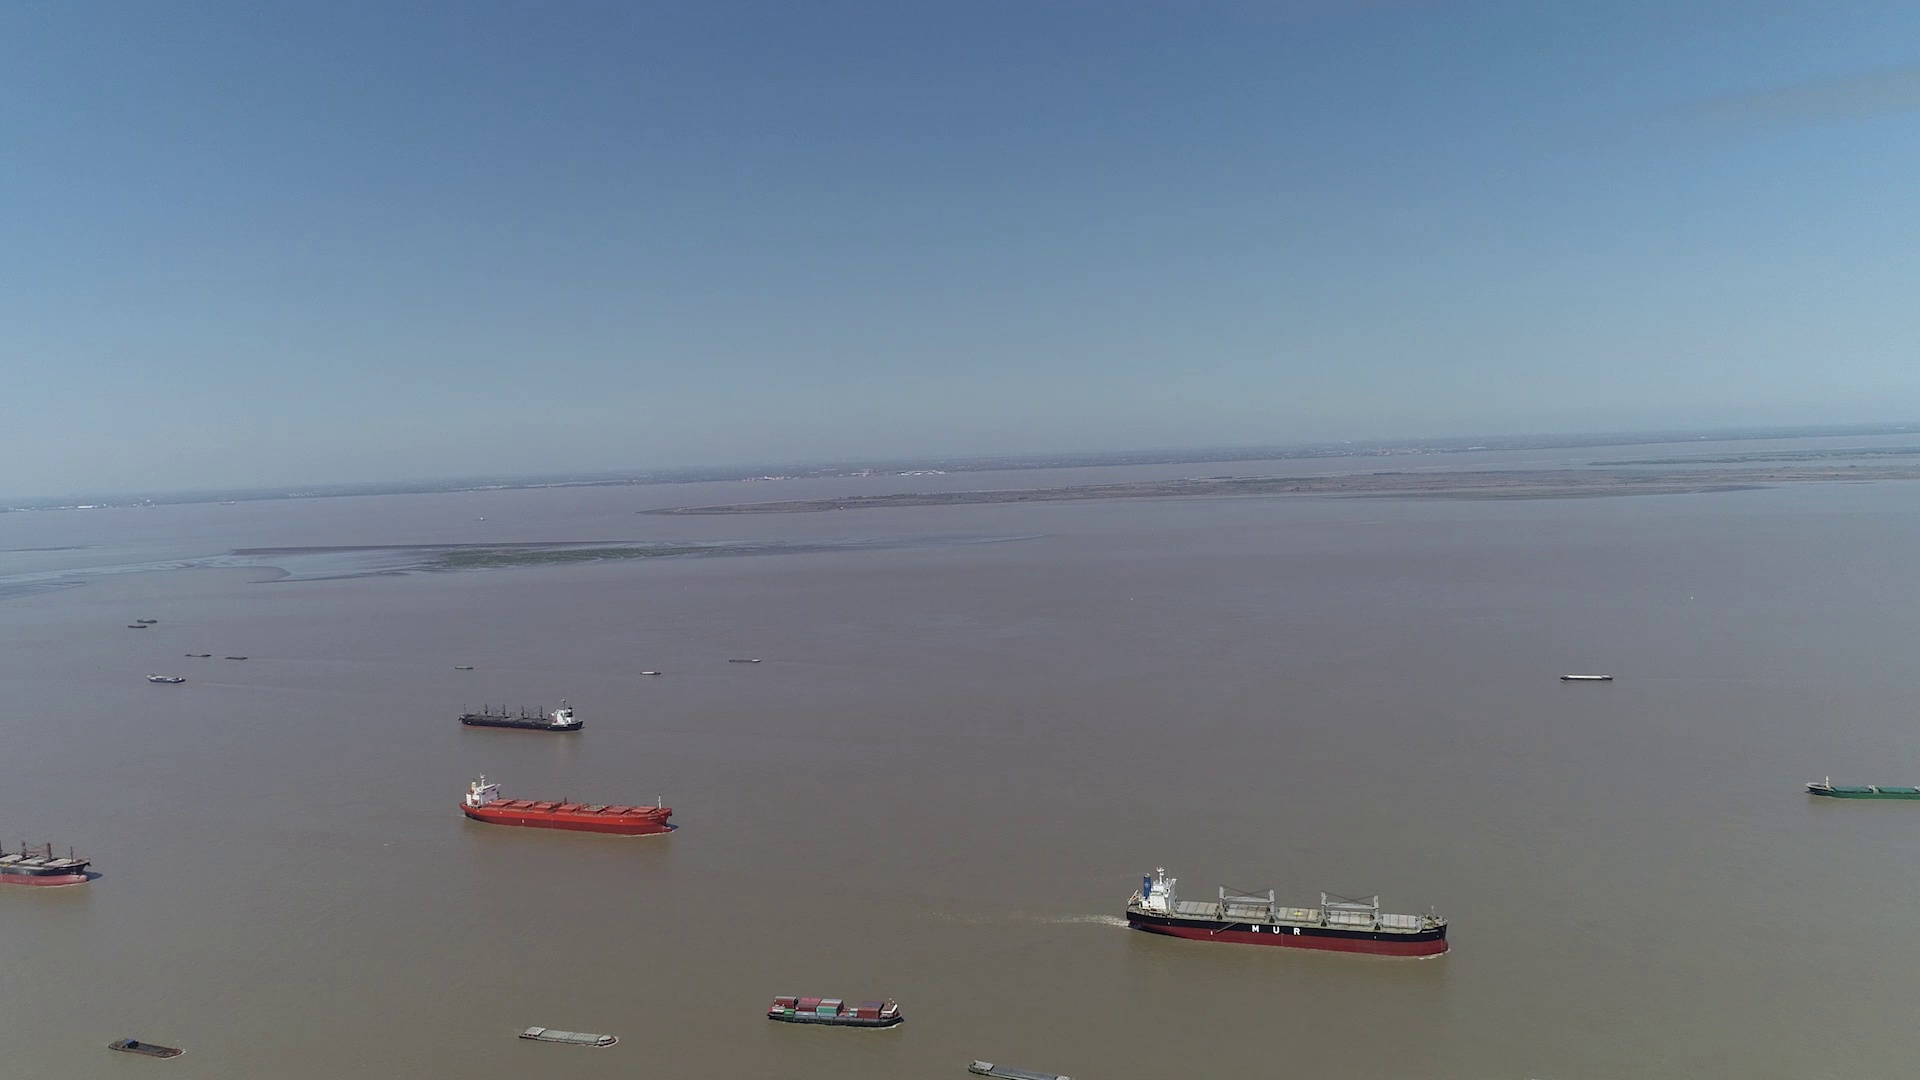ship: (1126, 866, 1448, 957), (459, 771, 673, 835), (1, 829, 94, 886), (765, 994, 905, 1029), (459, 700, 584, 732), (1805, 778, 1919, 800), (520, 1023, 618, 1047), (969, 1059, 1073, 1080), (108, 1036, 185, 1058), (145, 674, 185, 684), (1561, 674, 1613, 682)
